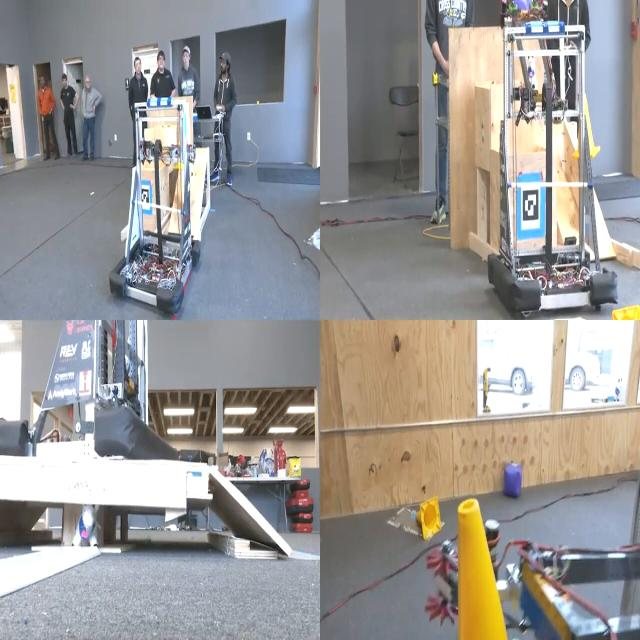frc_cone: (456, 496, 508, 640), (570, 83, 602, 160), (415, 490, 443, 542)
frc_cube: (501, 460, 526, 501)
